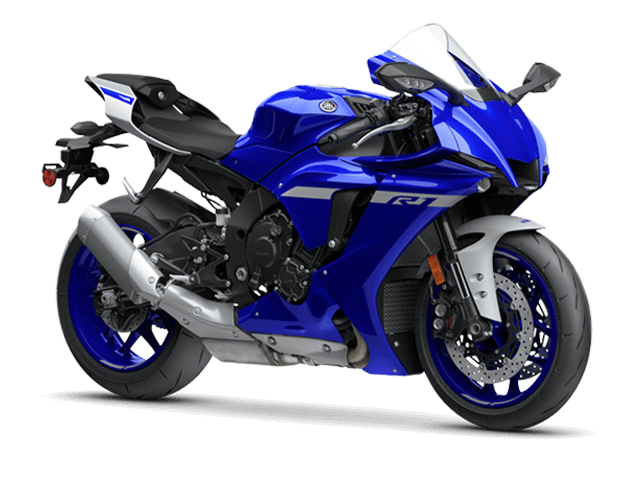motorbike: (41, 22, 592, 432)
